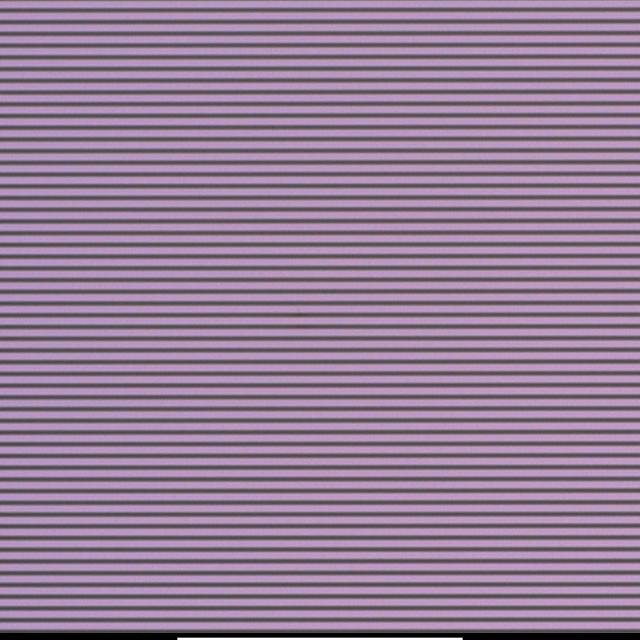03_intrusion: (286, 303, 302, 319)
